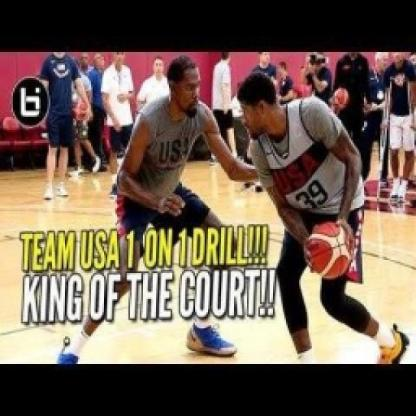basketball: (303, 219, 363, 285)
